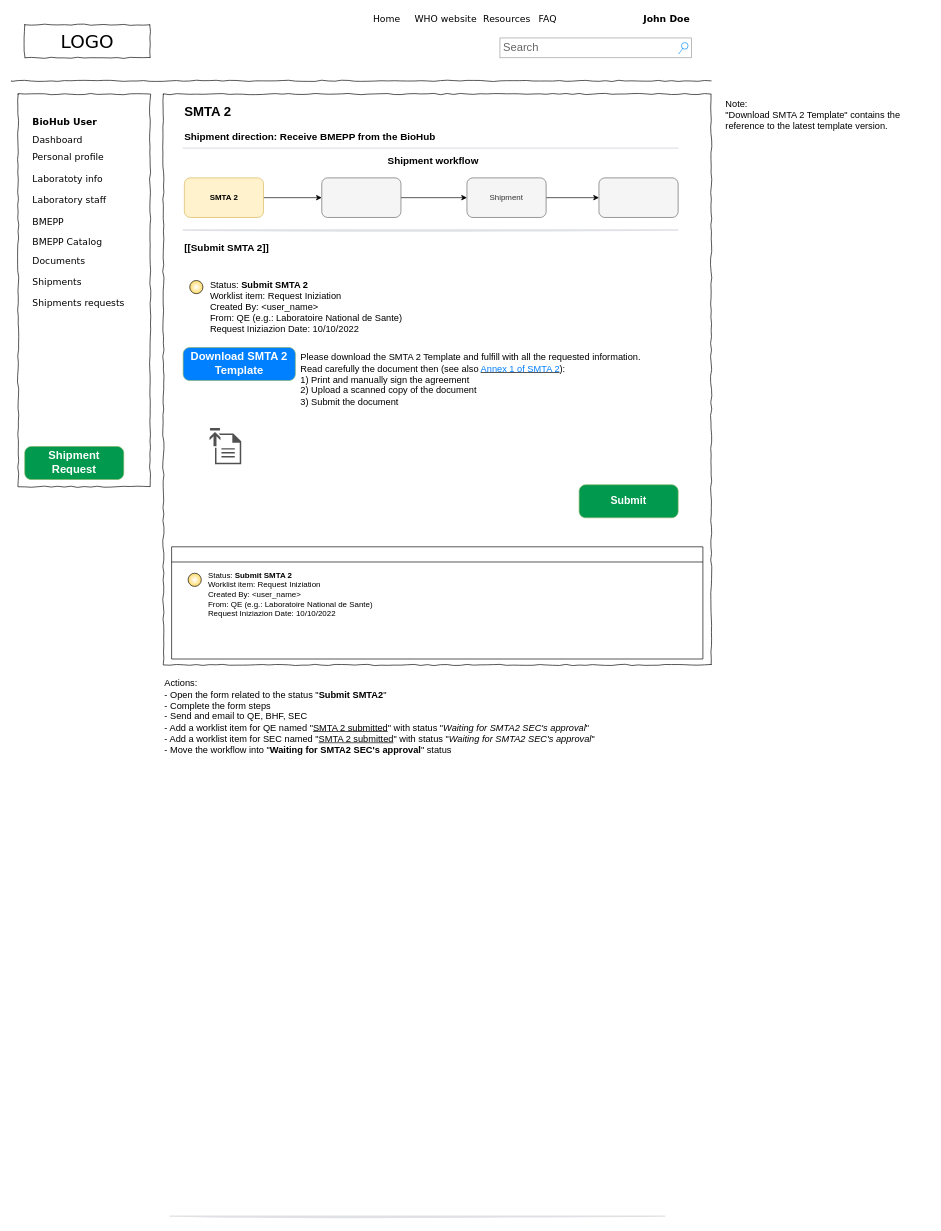
Some shapes in this 941 by 1231 pixel diagram are drawn without their labels. Here are the shapes that lost their labels. From the top down, the box of each, then its label:
(321, 177, 401, 217): Pre-Shipment
(598, 177, 678, 217): Post-Shipment
(209, 428, 241, 464): Upload here the signed SMTA 2
(171, 546, 703, 659): Workflow timeline
